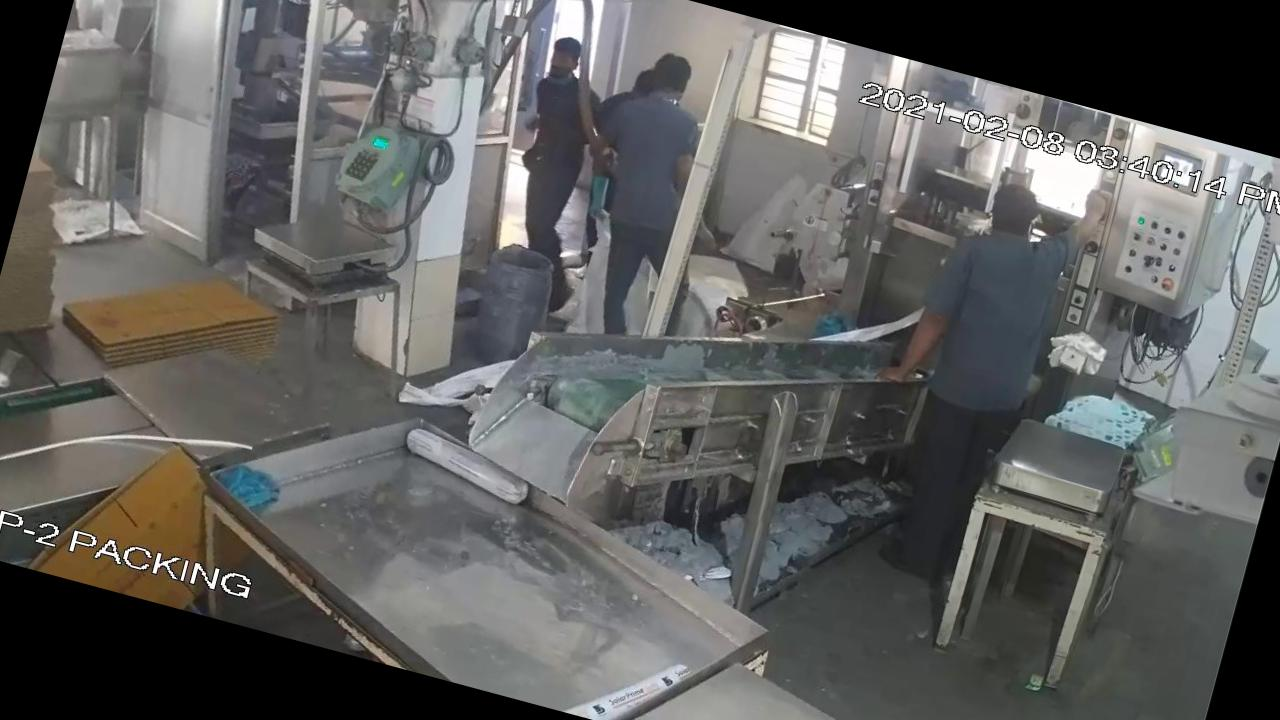Gloves: (565, 141, 636, 232)
No-gloves: (874, 294, 958, 402), (1055, 170, 1116, 274)
